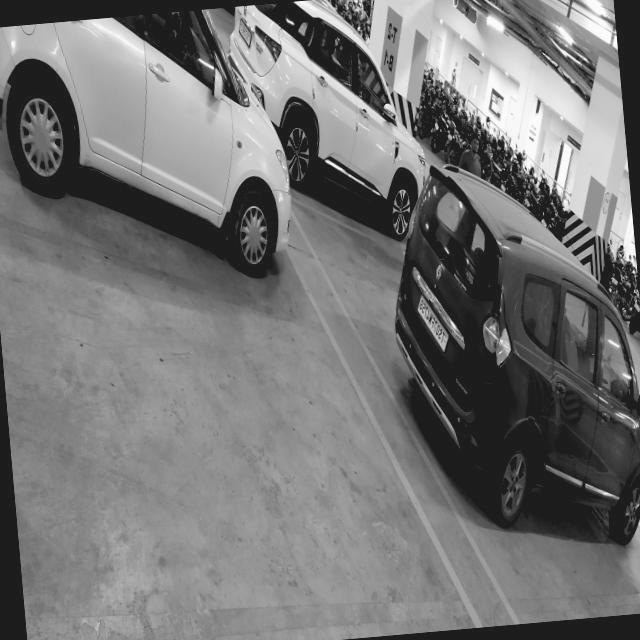car: (25, 61, 256, 248), (466, 368, 634, 569), (278, 96, 391, 210)
free: (82, 322, 363, 640), (331, 230, 410, 306)
